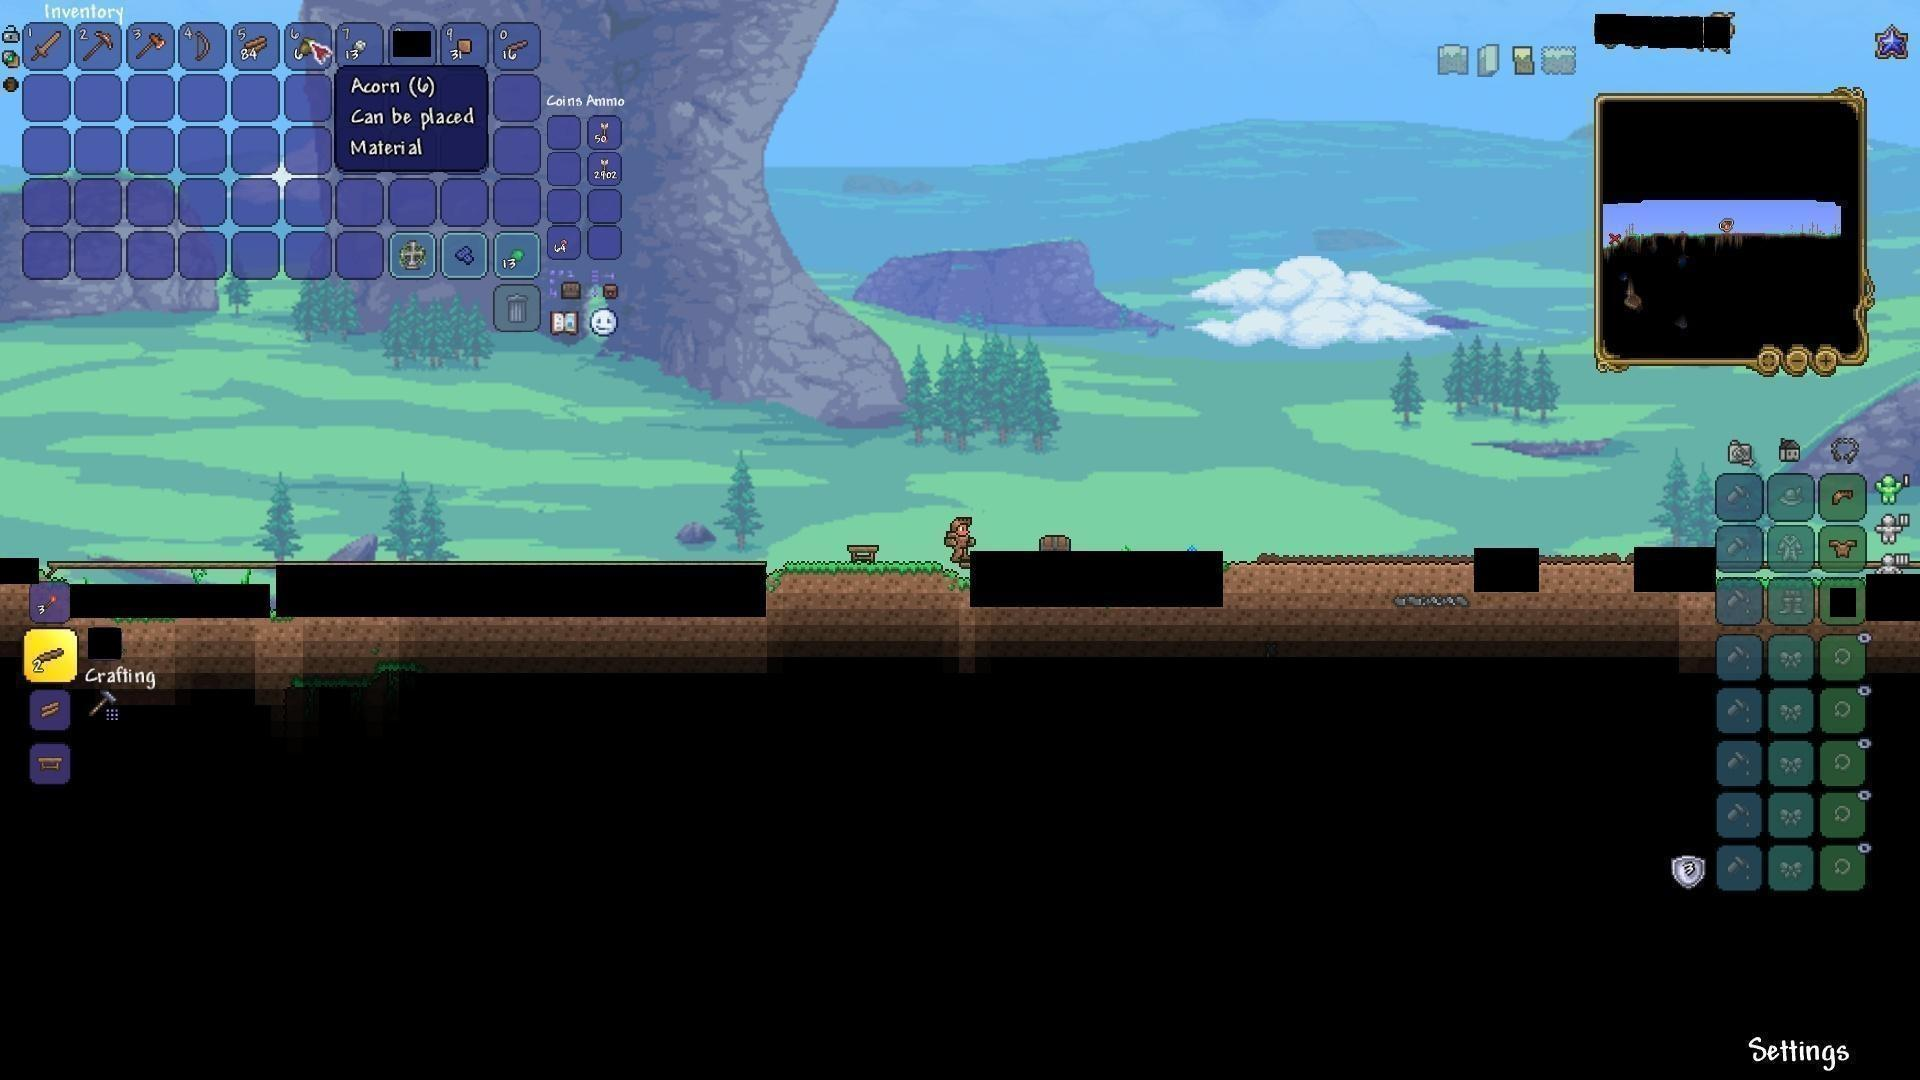breastplate: (1829, 535, 1859, 556)
dirt: (767, 559, 963, 599)
helmet: (1826, 483, 1858, 510)
wood: (239, 29, 272, 59), (36, 695, 65, 721)
workbench: (844, 541, 881, 564), (36, 752, 67, 775)
